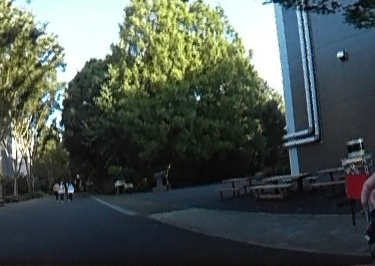person: (67, 180, 73, 200), (52, 181, 59, 198), (58, 180, 64, 198)
